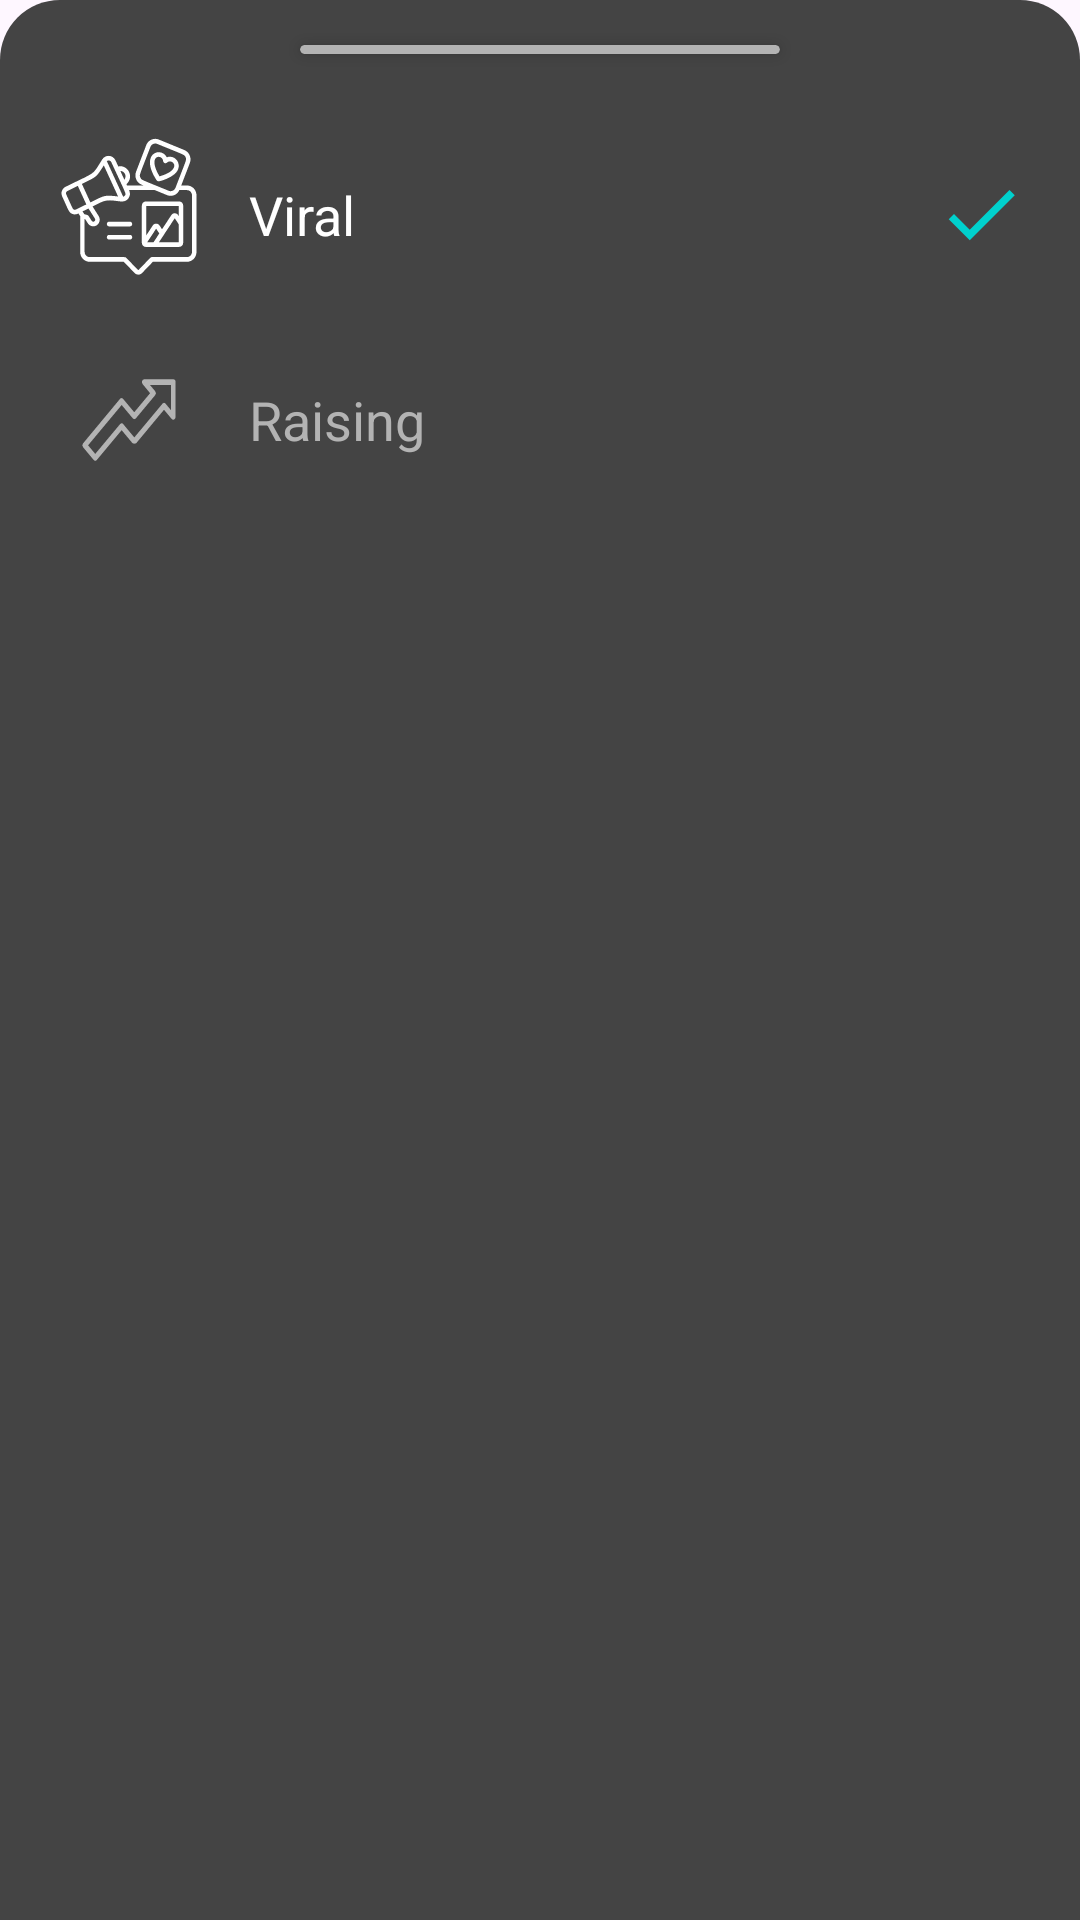

Point at icon controls on the screen. Image size 1080 × 1920, points as point (x, y).
done: point (982, 215)
